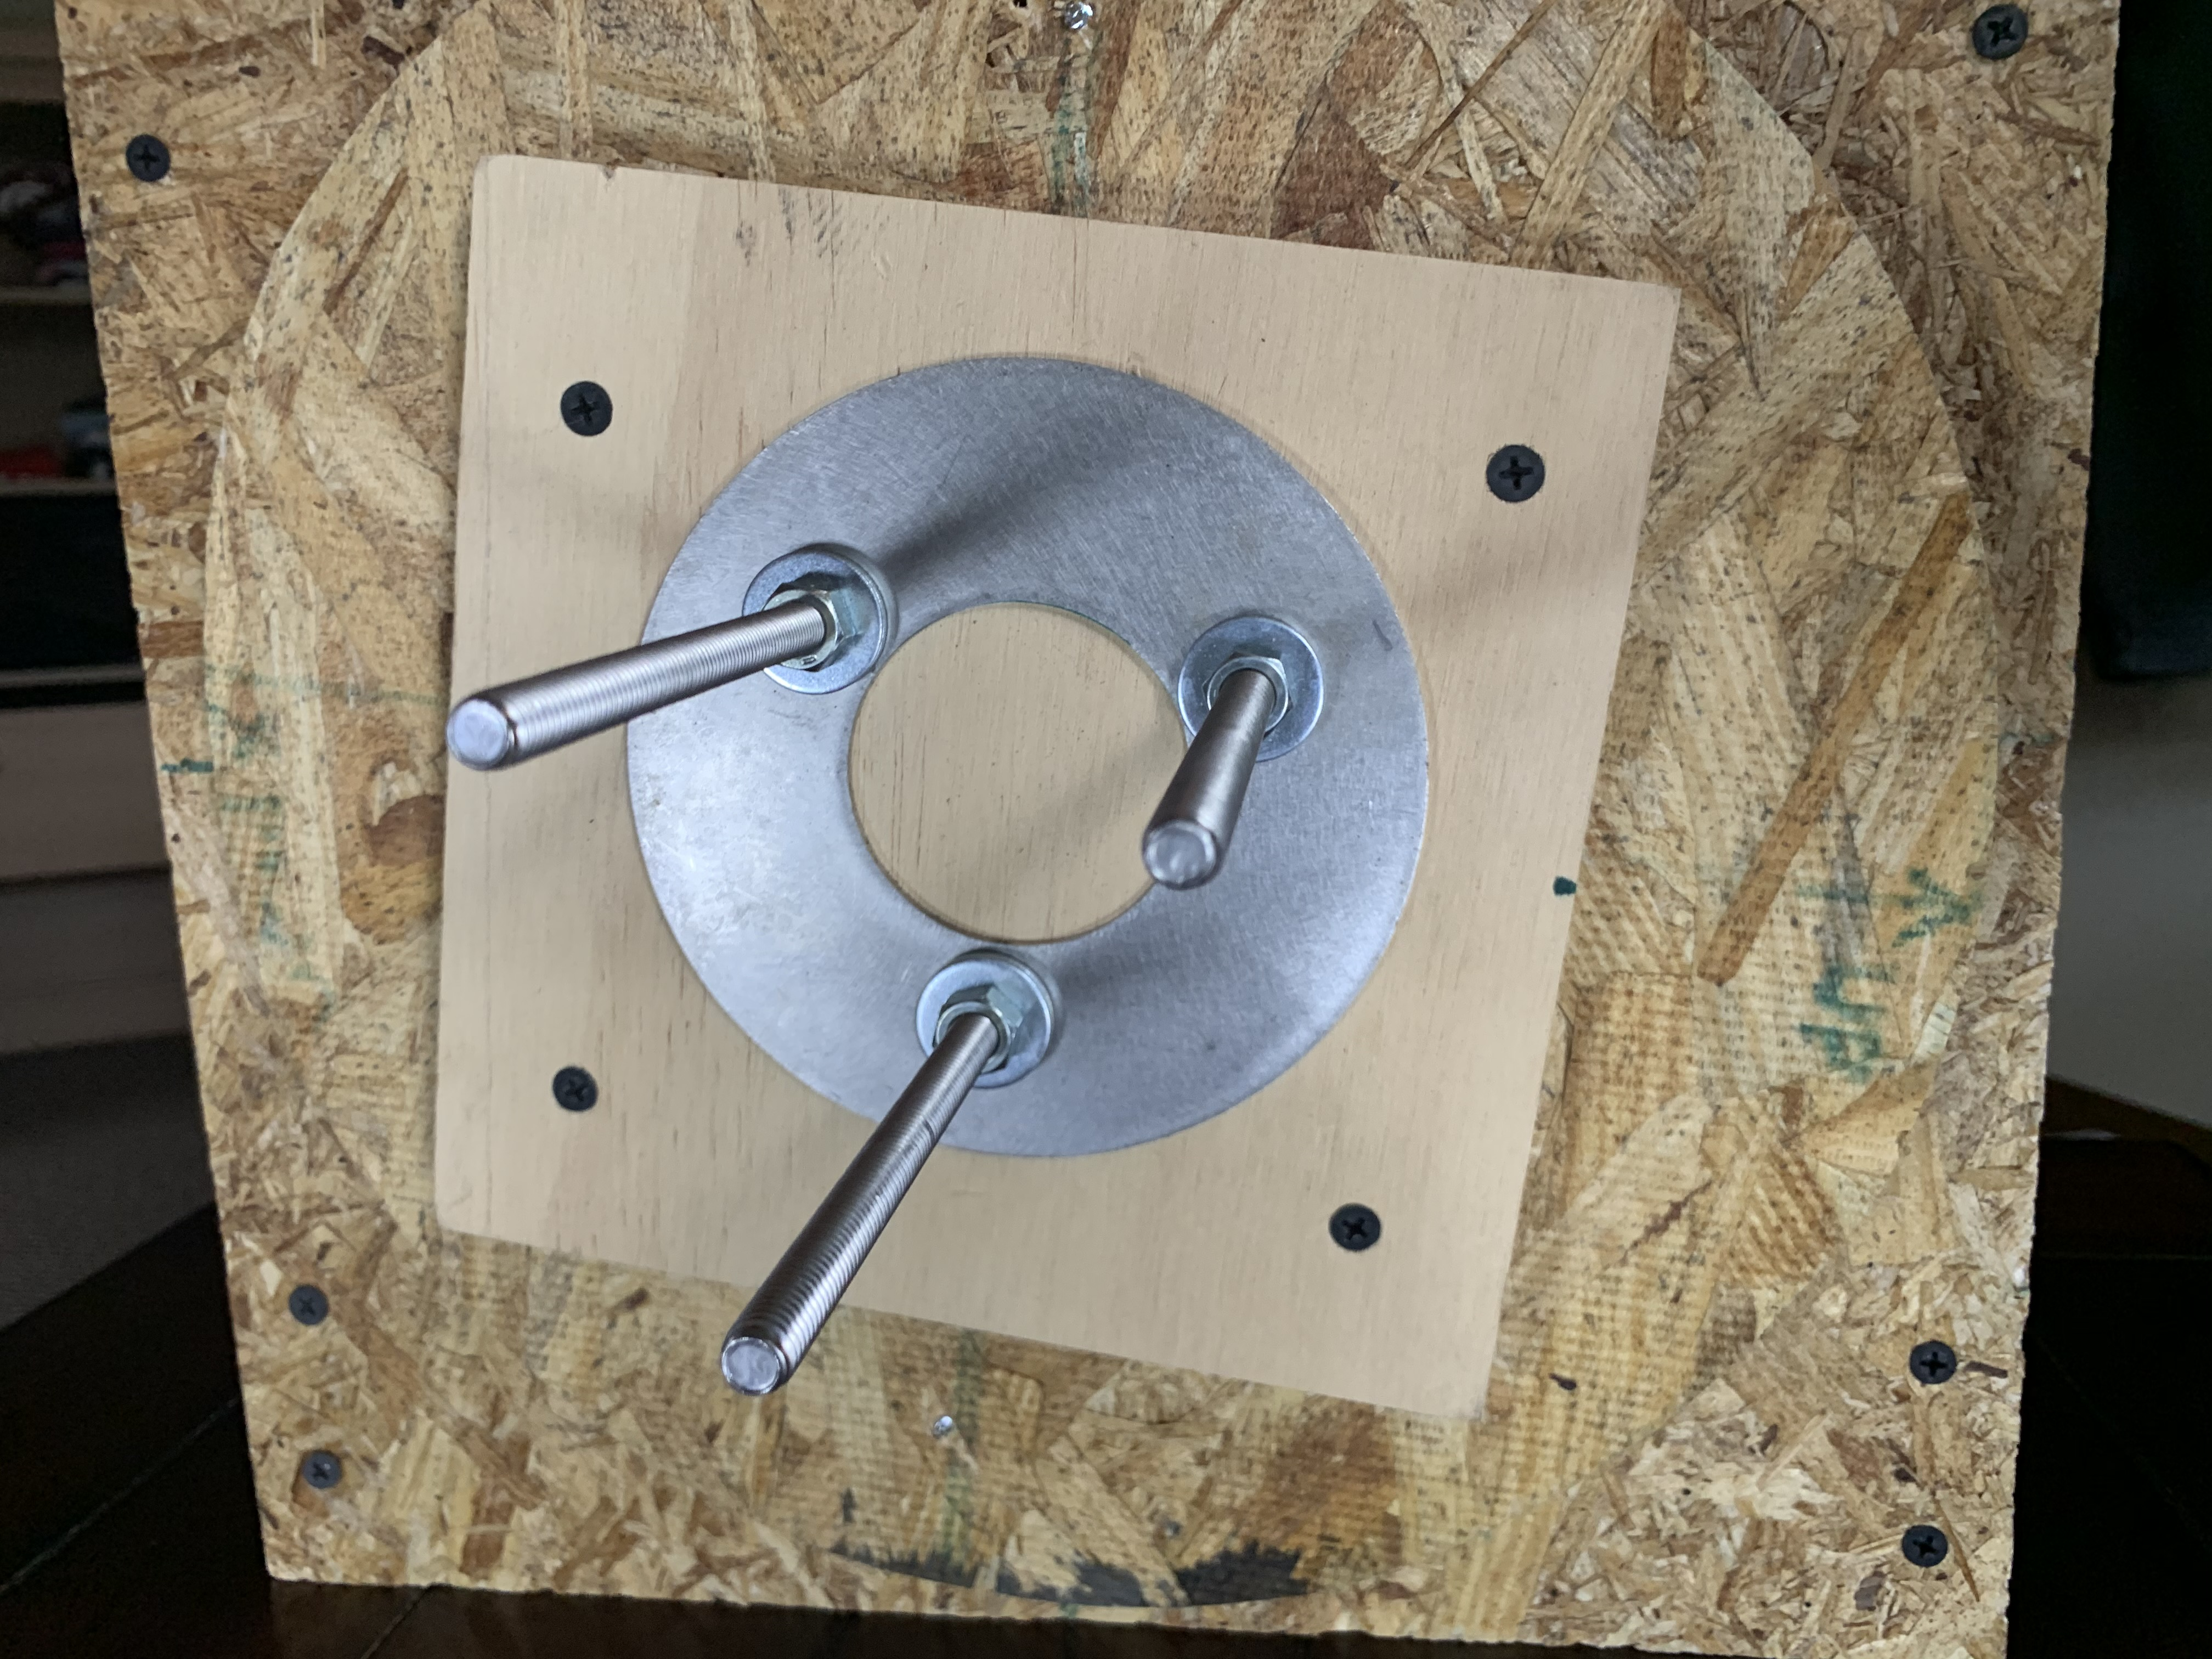bolt: (1170, 608, 1325, 765), (740, 544, 894, 688), (913, 951, 1064, 1086)
